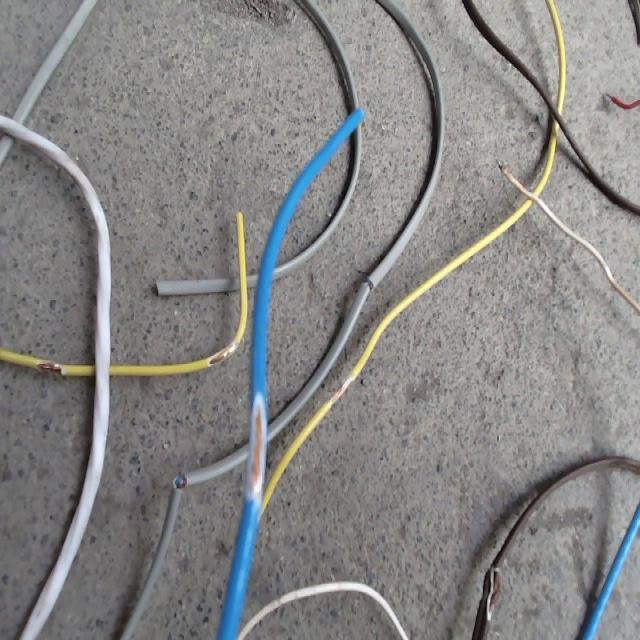-: (245, 389, 265, 499), (484, 566, 500, 622), (209, 339, 236, 365), (35, 359, 63, 376), (171, 472, 189, 492), (362, 275, 374, 292)
